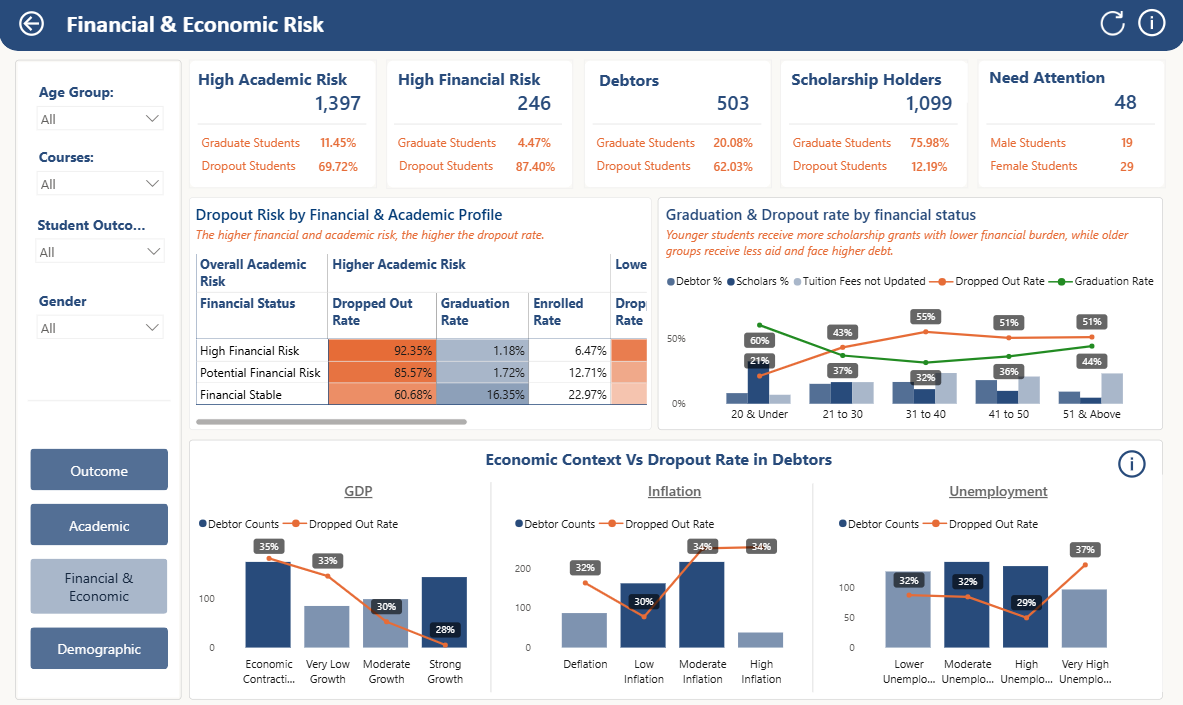

What the dashboard file says about the page in this screenshot:
{"tool":"powerbi","page":{"name":"Financial & Economic Risk","canvas":[1582,950],"ordinal":3},"visuals":[{"type":"group","id":"g1","title":"Bg-NavBar","box":[0,0,1581.7,73.3],"z":0},{"type":"shape","title":"Shape - Under","box":[0,0,1581.7,73.3],"z":0,"group":"g1"},{"type":"textbox","box":[84.3,13.8,498.2,54.1],"z":0,"group":"g4"},{"type":"shape","box":[21.7,85,221.7,853.3],"z":0,"group":"g28"},{"type":"group","id":"g2","title":"Group 3","box":[516.7,85,249.9,171.6],"z":0,"group":"g20"},{"type":"shape","box":[516.7,85,249.1,171.6],"z":0,"group":"g2"},{"type":"shape","box":[779.4,85,250.1,171.4],"z":0,"group":"g5"},{"type":"shape","box":[1042.1,85,250.1,171.4],"z":0,"group":"g6"},{"type":"shape","box":[1304.8,85,250.1,171.4],"z":0,"group":"g21"},{"type":"shape","box":[253.3,85.1,250.1,171.4],"z":0,"group":"g13"},{"type":"textbox","box":[1314.9,89.1,236.4,49.5],"z":0,"group":"g7"},{"type":"textbox","box":[527,89.4,230,46.7],"z":0,"group":"g8"},{"type":"textbox","box":[259.9,89.7,238.8,44.6],"z":0,"group":"g9"},{"type":"textbox","box":[1052.1,89.7,240,51.7],"z":0,"group":"g10"},{"type":"textbox","box":[793.7,91.3,170,40],"z":0,"group":"g11"},{"type":"textbox","box":[790.4,177.9,142.8,39.1],"z":0,"group":"g15"},{"type":"textbox","box":[1053.1,177.9,142.8,39.1],"z":0,"group":"g16"},{"type":"textbox","box":[1315.8,177.9,142.8,39.1],"z":0,"group":"g17"},{"type":"textbox","box":[264.3,178,142.8,39.1],"z":0,"group":"g18"},{"type":"textbox","box":[527,178.3,182.3,39.2],"z":0,"group":"g19"},{"type":"textbox","box":[1315.8,209.5,158.3,38.3],"z":0,"group":"g24"},{"type":"textbox","box":[790.8,209.9,142.8,39.1],"z":0,"group":"g22"},{"type":"textbox","box":[1053.5,209.9,142.8,39.1],"z":0,"group":"g23"},{"type":"textbox","box":[264.7,210,142.8,39.1],"z":0,"group":"g25"},{"type":"textbox","box":[528.1,210.2,142.3,39.1],"z":0,"group":"g26"},{"type":"slicer","fields":{"Values":["fact_student.Gender"]},"box":[39.7,387.9,188.9,105.6],"z":0,"group":"g14"},{"type":"shape","box":[253.3,591.7,1298.3,346.7],"z":0,"group":"g27"},{"type":"group","id":"g3","title":"Group 4","box":[42,603.6,183.7,293.8],"z":0,"group":"g12"},{"type":"actionButton","title":"btn_demographic","box":[42,841.3,183.7,56],"z":0,"group":"g3"},{"type":"shape","box":[0,0,1581.7,46],"z":1000,"group":"g1"},{"type":"group","id":"g4","title":"Group 3","box":[21.7,11.7,1545,56.2],"z":1000},{"type":"image","box":[1463.6,20,43.3,32.5],"z":1000,"group":"g4"},{"type":"shape","box":[527.5,85,223.8,171.6],"z":1000,"group":"g2"},{"type":"group","id":"g5","title":"Group 3","box":[779.4,85,250.9,171.4],"z":1000,"group":"g20"},{"type":"shape","box":[790.3,85,224.7,171.4],"z":1000,"group":"g5"},{"type":"shape","box":[1053,85,224.7,171.4],"z":1000,"group":"g6"},{"type":"shape","box":[1315.7,85,224.7,171.4],"z":1000,"group":"g21"},{"type":"shape","box":[264.2,85.1,224.7,171.4],"z":1000,"group":"g13"},{"type":"slicer","fields":{"Values":["fact_student.Age Groups"]},"box":[39.7,110.1,188.9,105.6],"z":1000,"group":"g14"},{"type":"card","fields":{"Values":["tbl_measure.Debtor Counts"]},"box":[925.3,121.4,104.7,46.1],"z":1000,"group":"g11"},{"type":"card","fields":{"Values":["tbl_measure.Total Students"]},"box":[1450.7,121.4,104.7,46.1],"z":1000,"group":"g7"},{"type":"card","fields":{"Values":["tbl_measure.Total Students"]},"box":[662.1,121.5,104.3,46.1],"z":1000,"group":"g8"},{"type":"card","fields":{"Values":["tbl_measure.Scholarship Counts"]},"box":[1188.1,121.5,104.7,46.1],"z":1000,"group":"g10"},{"type":"card","fields":{"Values":["tbl_measure.Total Students"]},"box":[399.2,121.6,104.7,46.1],"z":1000,"group":"g9"},{"type":"card","fields":{"Values":["tbl_measure.Graduation Rate"]},"box":[925.6,176.2,104.7,41.9],"z":1000,"group":"g15"},{"type":"card","fields":{"Values":["tbl_measure.Graduation Rate"]},"box":[1188.3,176.2,104.7,41.9],"z":1000,"group":"g16"},{"type":"card","fields":{"Values":["tbl_measure.Total Students"]},"box":[1451,176.2,104.7,41.9],"z":1000,"group":"g17"},{"type":"card","fields":{"Values":["tbl_measure.Graduation Rate"]},"box":[399.5,176.3,104.7,41.9],"z":1000,"group":"g18"},{"type":"card","fields":{"Values":["tbl_measure.Graduation Rate"]},"box":[662.3,176.3,104.3,41.9],"z":1000,"group":"g19"},{"type":"card","fields":{"Values":["tbl_measure.Dropped Out Rate"]},"box":[926,208.2,104.7,41.9],"z":1000,"group":"g22"},{"type":"card","fields":{"Values":["tbl_measure.Dropped Out Rate"]},"box":[1188.7,208.2,104.7,41.9],"z":1000,"group":"g23"},{"type":"card","fields":{"Values":["tbl_measure.Total Students"]},"box":[1451.5,208.2,104.7,41.9],"z":1000,"group":"g24"},{"type":"card","fields":{"Values":["tbl_measure.Dropped Out Rate"]},"box":[399.9,208.3,104.7,41.9],"z":1000,"group":"g25"},{"type":"card","fields":{"Values":["tbl_measure.Dropped Out Rate"]},"box":[662.8,208.4,104.3,41.9],"z":1000,"group":"g26"},{"type":"shape","title":"Line","box":[38,443.4,190.6,192.2],"z":1000,"group":"g28"},{"type":"actionButton","title":"btn_finance_eco","box":[42,603.6,183.7,56],"z":1000,"group":"g3"},{"type":"actionButton","box":[21.7,14.6,55.6,43.4],"z":2000,"group":"g4"},{"type":"group","id":"g6","title":"Group 3","box":[1042.1,85,250.9,171.4],"z":2000,"group":"g20"},{"type":"group","id":"g7","title":"Group 2","box":[1314.9,89.1,240.5,78.4],"z":2000,"group":"g21"},{"type":"group","id":"g8","title":"Group 2","box":[527,89.4,239.4,78.2],"z":2000,"group":"g2"},{"type":"group","id":"g9","title":"Group 2","box":[259.9,89.7,244.1,77.9],"z":2000,"group":"g13"},{"type":"group","id":"g10","title":"Group 2","box":[1052.1,89.7,240.7,77.9],"z":2000,"group":"g6"},{"type":"group","id":"g11","title":"Group 2","box":[793.7,91.3,236.3,76.2],"z":2000,"group":"g5"},{"type":"slicer","fields":{"Values":["fact_student.Target"]},"box":[37.9,286.5,192.6,105.1],"z":2000,"group":"g14"},{"type":"textbox","box":[643.3,596.7,478.3,46.7],"z":2000,"group":"g27"},{"type":"group","id":"g12","title":"Group 6","box":[42,603.6,183.7,293.8],"z":2000,"group":"g28"},{"type":"shape","box":[563.3,631.7,188.3,296.7],"z":2000},{"type":"actionButton","title":"btn_academic","box":[42,676.9,183.7,56],"z":2000,"group":"g3"},{"type":"lineStackedColumnComboChart","title":"GDP","fields":{"Category":["fact_student.GDP Category"],"Y":["tbl_measure.Debtor Counts"],"Y2":["tbl_measure.Dropped Out Rate"]},"box":[255,638.9,443.3,289.7],"z":2500,"group":"g27"},{"type":"actionButton","box":[1513.7,11.7,53,47.7],"z":3000,"group":"g4"},{"type":"group","id":"g13","title":"Group 3","box":[253.3,85.1,250.9,171.4],"z":3000,"group":"g20"},{"type":"group","id":"g14","title":"Group 5","box":[37.9,110.1,192.6,383.5],"z":3000,"group":"g28"},{"type":"group","id":"g15","title":"Group 2","box":[790.4,176.2,239.9,41.9],"z":3000,"group":"g5"},{"type":"group","id":"g16","title":"Group 2","box":[1053.1,176.2,239.9,41.9],"z":3000,"group":"g6"},{"type":"group","id":"g17","title":"Group 2","box":[1315.8,176.2,239.9,41.9],"z":3000,"group":"g21"},{"type":"group","id":"g18","title":"Group 2","box":[264.3,176.3,239.9,41.9],"z":3000,"group":"g13"},{"type":"group","id":"g19","title":"Group 2","box":[527,176.3,239.6,41.9],"z":3000,"group":"g2"},{"type":"slicer","fields":{"Values":["dim_course.Course Name"]},"box":[39.6,197.4,189.2,105.1],"z":3000,"group":"g14"},{"type":"lineClusteredColumnComboChart","title":"Inflation","fields":{"Category":["fact_student.Inflation Category"],"Y":["tbl_measure.Debtor Counts"],"Y2":["tbl_measure.Dropped Out Rate"]},"box":[676.6,638.9,443.3,289.7],"z":3000,"group":"g27"},{"type":"actionButton","title":"btn_outcome","box":[42.3,750.1,183,73.9],"z":3000,"group":"g3"},{"type":"group","id":"g20","title":"Group 1","box":[253.3,85,1302.9,171.6],"z":4000},{"type":"group","id":"g21","title":"Group 3","box":[1304.8,85,251.3,171.4],"z":4000,"group":"g20"},{"type":"group","id":"g22","title":"Group 2","box":[790.8,208.2,239.2,41.9],"z":4000,"group":"g5"},{"type":"group","id":"g23","title":"Group 2","box":[1053.5,208.2,239.2,41.9],"z":4000,"group":"g6"},{"type":"group","id":"g24","title":"Group 2","box":[1315.8,208.2,240.4,41.9],"z":4000,"group":"g21"},{"type":"group","id":"g25","title":"Group 2","box":[264.7,208.3,239.2,41.9],"z":4000,"group":"g13"},{"type":"group","id":"g26","title":"Group 2","box":[528.1,208.4,238.3,41.9],"z":4000,"group":"g2"},{"type":"lineClusteredColumnComboChart","title":"Unemployment","fields":{"Category":["fact_student.Unemployment Category"],"Y":["tbl_measure.Debtor Counts"],"Y2":["tbl_measure.Dropped Out Rate"]},"box":[1108.3,638.9,443.3,289.7],"z":4000,"group":"g27"},{"type":"lineClusteredColumnComboChart","title":"Graduation & Dropout rate by financial status","fields":{"Category":["fact_student.Age Groups"],"Y":["tbl_measure.Debtor %","tbl_measure.Scholar Students %","tbl_measure.Tuition no update %"],"Y2":["tbl_measure.Dropped Out Rate","tbl_measure.Graduation Rate"]},"box":[878.7,269,673.3,310.4],"z":5000},{"type":"shape","box":[639.4,648.9,31.7,280],"z":5000,"group":"g27"},{"type":"pivotTable","title":"Dropout Risk by Financial & Academic Profile","fields":{"Columns":["fact_student.Overall Academic Risk"],"Rows":["fact_student.Financial Status"],"Values":["tbl_measure.Dropped Out Rate","tbl_measure.Graduation Rate","tbl_measure.Enrolled Rate"]},"box":[253.1,269,616.7,310],"z":6000},{"type":"shape","box":[1074.4,650.6,20,278.3],"z":6000,"group":"g27"},{"type":"group","id":"g27","title":"box_economic_context","box":[253.3,591.7,1298.3,346.7],"z":7000},{"type":"actionButton","title":"icon_info","box":[1486.4,600.2,56.7,47.8],"z":7000,"group":"g27"},{"type":"group","id":"g28","title":"Sidebar","box":[21.7,85,221.7,853.3],"z":8000}]}

Visuals, with their boxes in screenshot pixels (x1, y1, x2, y2), scaled from the page's 1582x950 canvas onto the 1183x705 screenshot:
"Bg-NavBar" group: (0, 0, 1182, 54)
"Shape - Under" shape: (0, 0, 1182, 54)
textbox: (63, 10, 436, 50)
shape: (16, 63, 182, 696)
"Group 3" group: (386, 63, 573, 190)
shape: (386, 63, 573, 190)
shape: (583, 63, 770, 190)
shape: (779, 63, 966, 190)
shape: (976, 63, 1163, 190)
shape: (189, 63, 376, 190)
textbox: (983, 66, 1160, 103)
textbox: (394, 66, 566, 101)
textbox: (194, 67, 373, 100)
textbox: (787, 67, 966, 105)
textbox: (594, 68, 721, 97)
textbox: (591, 132, 698, 161)
textbox: (787, 132, 894, 161)
textbox: (984, 132, 1091, 161)
textbox: (198, 132, 304, 161)
textbox: (394, 132, 530, 161)
textbox: (984, 155, 1102, 184)
textbox: (591, 156, 698, 185)
textbox: (788, 156, 895, 185)
textbox: (198, 156, 305, 185)
textbox: (395, 156, 501, 185)
slicer - fact_student.Gender: (30, 288, 171, 366)
shape: (189, 439, 1160, 696)
"Group 4" group: (31, 448, 169, 666)
"btn_demographic" actionButton: (31, 624, 169, 666)
shape: (0, 0, 1182, 34)
"Group 3" group: (16, 9, 1172, 50)
image: (1094, 15, 1127, 39)
shape: (394, 63, 562, 190)
"Group 3" group: (583, 63, 770, 190)
shape: (591, 63, 759, 190)
shape: (787, 63, 955, 190)
shape: (984, 63, 1152, 190)
shape: (198, 63, 366, 190)
slicer - fact_student.Age Groups: (30, 82, 171, 160)
card - tbl_measure.Debtor Counts: (692, 90, 770, 124)
card - tbl_measure.Total Students: (1085, 90, 1163, 124)
card - tbl_measure.Total Students: (495, 90, 573, 124)
card - tbl_measure.Scholarship Counts: (888, 90, 967, 124)
card - tbl_measure.Total Students: (299, 90, 377, 124)
card - tbl_measure.Graduation Rate: (692, 131, 770, 162)
card - tbl_measure.Graduation Rate: (889, 131, 967, 162)
card - tbl_measure.Total Students: (1085, 131, 1163, 162)
card - tbl_measure.Graduation Rate: (299, 131, 377, 162)
card - tbl_measure.Graduation Rate: (495, 131, 573, 162)
card - tbl_measure.Dropped Out Rate: (692, 155, 771, 186)
card - tbl_measure.Dropped Out Rate: (889, 155, 967, 186)
card - tbl_measure.Total Students: (1085, 155, 1164, 186)
card - tbl_measure.Dropped Out Rate: (299, 155, 377, 186)
card - tbl_measure.Dropped Out Rate: (496, 155, 574, 186)
"Line" shape: (28, 329, 171, 472)
"btn_finance_eco" actionButton: (31, 448, 169, 489)
actionButton: (16, 11, 58, 43)
"Group 3" group: (779, 63, 967, 190)
"Group 2" group: (983, 66, 1163, 124)
"Group 2" group: (394, 66, 573, 124)
"Group 2" group: (194, 67, 377, 124)
"Group 2" group: (787, 67, 967, 124)
"Group 2" group: (594, 68, 770, 124)
slicer - fact_student.Target: (28, 213, 172, 291)
textbox: (481, 443, 839, 477)
"Group 6" group: (31, 448, 169, 666)
shape: (421, 469, 562, 689)
"btn_academic" actionButton: (31, 502, 169, 544)
"GDP" lineStackedColumnComboChart: (191, 474, 522, 689)
actionButton: (1132, 9, 1172, 44)
"Group 3" group: (189, 63, 377, 190)
"Group 5" group: (28, 82, 172, 366)
"Group 2" group: (591, 131, 770, 162)
"Group 2" group: (787, 131, 967, 162)
"Group 2" group: (984, 131, 1163, 162)
"Group 2" group: (198, 131, 377, 162)
"Group 2" group: (394, 131, 573, 162)
slicer - dim_course.Course Name: (30, 146, 171, 224)
"Inflation" lineClusteredColumnComboChart: (506, 474, 837, 689)
"btn_outcome" actionButton: (32, 557, 168, 611)
"Group 1" group: (189, 63, 1164, 190)
"Group 3" group: (976, 63, 1164, 190)
"Group 2" group: (591, 155, 770, 186)
"Group 2" group: (788, 155, 967, 186)
"Group 2" group: (984, 155, 1164, 186)
"Group 2" group: (198, 155, 377, 186)
"Group 2" group: (395, 155, 573, 186)
"Unemployment" lineClusteredColumnComboChart: (829, 474, 1160, 689)
"Graduation & Dropout rate by financial status" lineClusteredColumnComboChart: (657, 200, 1161, 430)
shape: (478, 482, 502, 689)
"Dropout Risk by Financial & Academic Profile" pivotTable: (189, 200, 650, 430)
shape: (803, 483, 818, 689)
"box_economic_context" group: (189, 439, 1160, 696)
"icon_info" actionButton: (1112, 445, 1154, 481)
"Sidebar" group: (16, 63, 182, 696)
